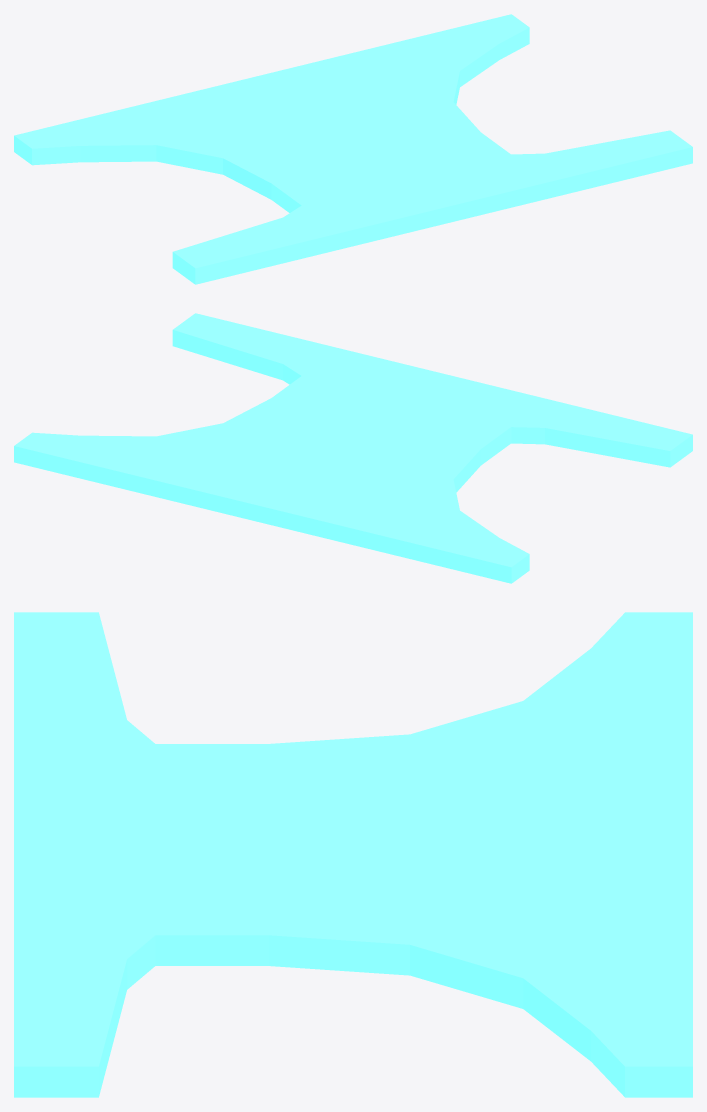
File: shape_1_pedestal.glb
The picture shows the model from 3 angles, top to bottom: view 1: azimuth 30°, elevation 25°; view 2: azimuth 150°, elevation 25°; view 3: azimuth 270°, elevation 25°; orthographic projection. The views are drawn at different scales.
Parts seen in each view (by area): view 1: geometry_0; view 2: geometry_0; view 3: geometry_0.
Part boxes in pixels (left/top/right/bottom): geometry_0: left=14, top=14, right=692, bottom=284; geometry_0: left=14, top=313, right=692, bottom=583; geometry_0: left=14, top=612, right=692, bottom=1097.
Bounding box in the file's own units: 1.9 × 0.06 × 1.2.
